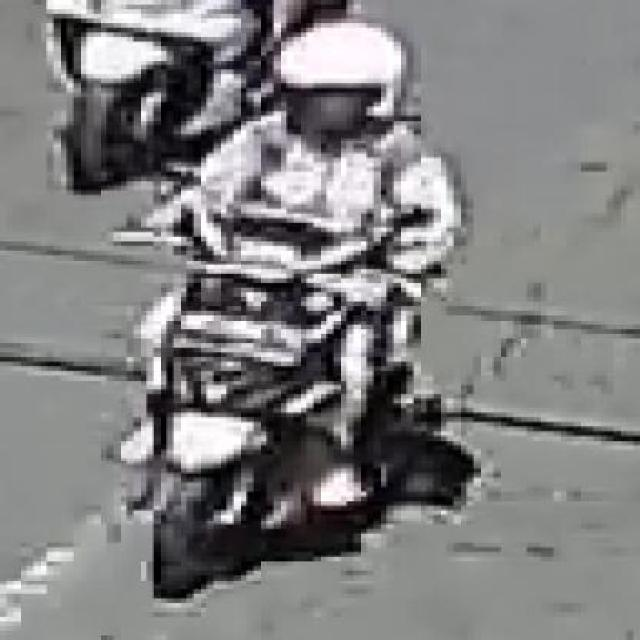helmet: (239, 0, 424, 156)
motorcycle: (117, 2, 474, 620)
